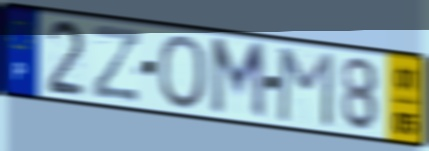2: (45, 17, 88, 102)
8: (338, 54, 380, 134)
M: (208, 35, 268, 124), (274, 45, 336, 131)
O: (156, 33, 209, 112)
Z: (91, 21, 143, 104)
